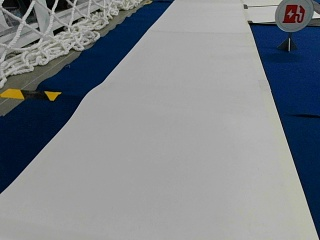battery: (274, 0, 314, 32)
